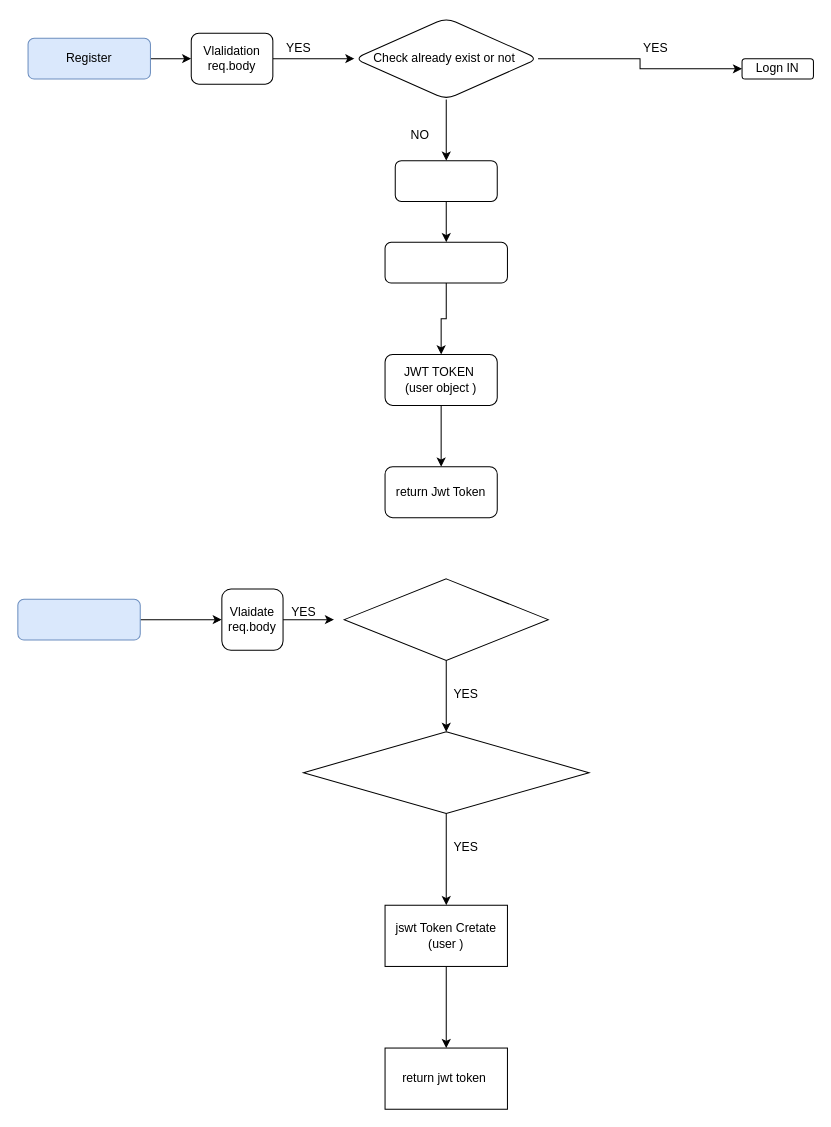
Some shapes in this 831 by 1127 pixel diagram are drawn without their labels. The box of each missing label's shape, as (x1, y1, x2, y2) in pixels:
chekc exist in data base or not (email): (343, 578, 548, 660)
Compare password (user password === database password ): (302, 731, 589, 813)
Encrypt Password: (394, 160, 497, 201)
Log In: (17, 598, 140, 640)
Successfully Register: (384, 241, 507, 283)
